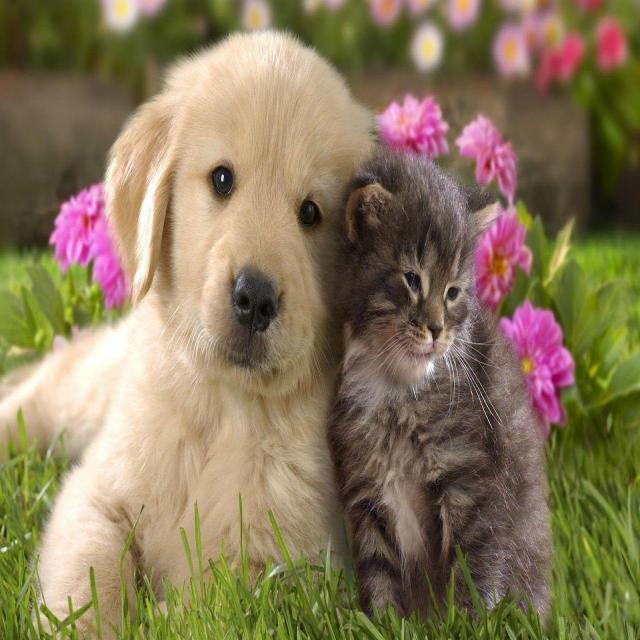cat: (344, 137, 563, 632)
dog: (12, 17, 378, 640)
